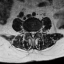CCS_normal: (31, 29, 33, 39)
LFS_stenosis: (35, 28, 37, 35)
LLS_normal: (33, 29, 35, 37)
RFS_stenosis: (27, 29, 29, 34)
RLS_stenosis: (29, 29, 31, 36)
